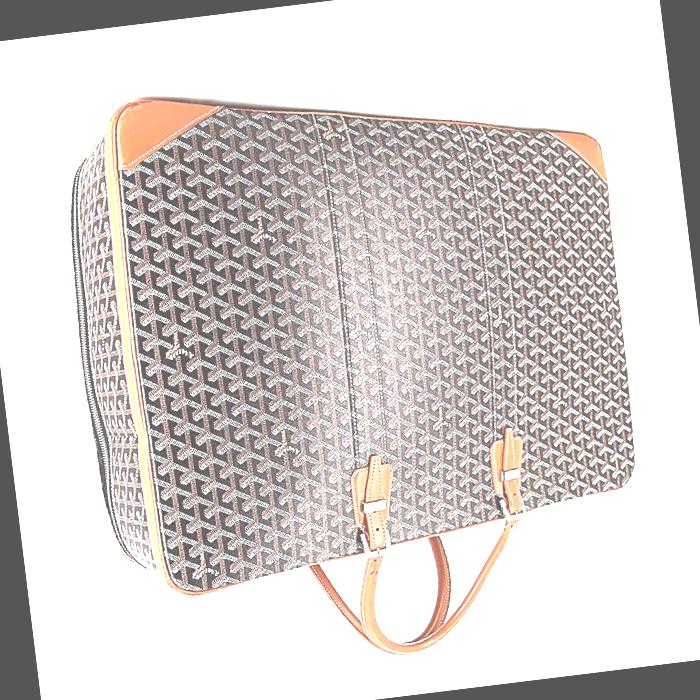GOYARD: (57, 58, 650, 600)
